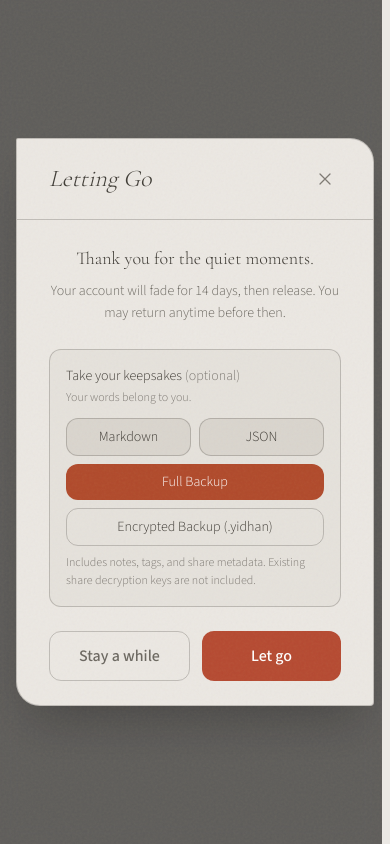
it: LettingGoModal re-auth feature switch › requires server confirmation before account departure when the switch is on
Click the button "Let go" at (272, 656), box [202,631,341,681]
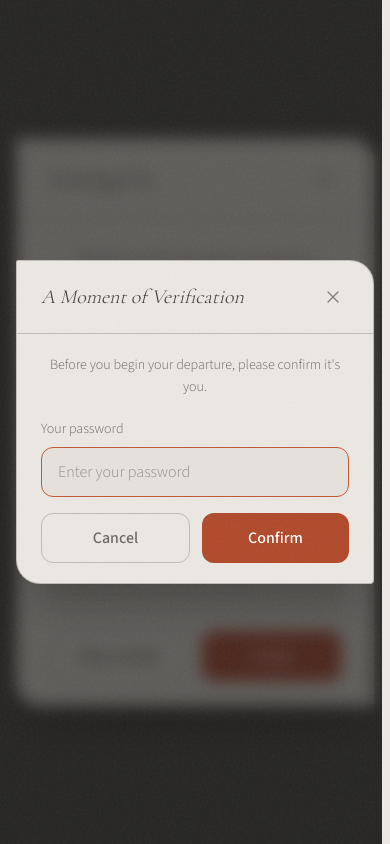
Now the heading "A Moment of Verification" is shown, box [41,283,244,311]
Now the text "Before you begin your departure, please confirm it's you." is shown, box [41,354,349,399]
